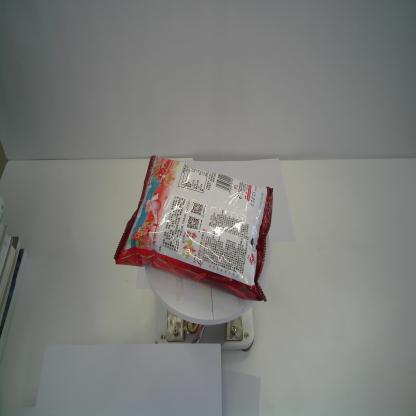Puffed Food: (114, 154, 273, 303)
